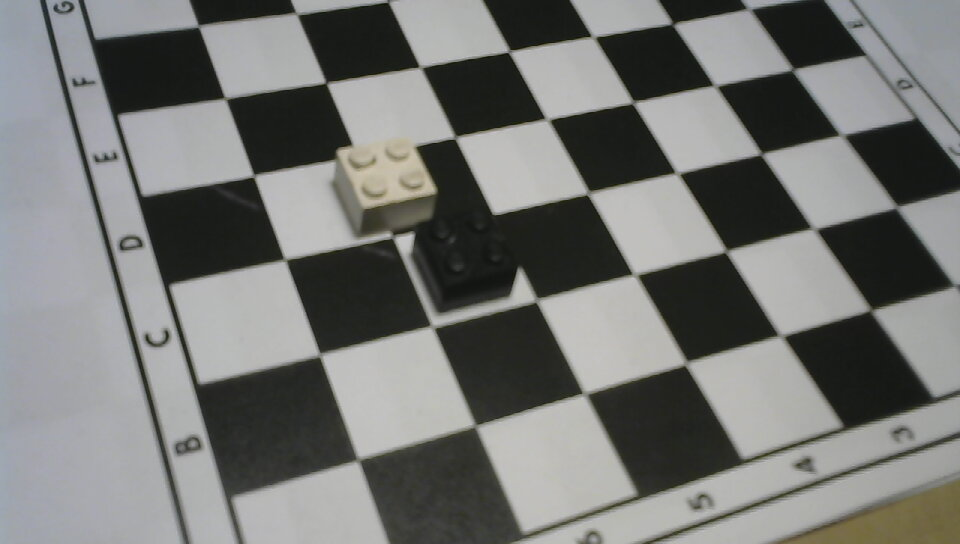bp: (405, 200, 522, 316)
